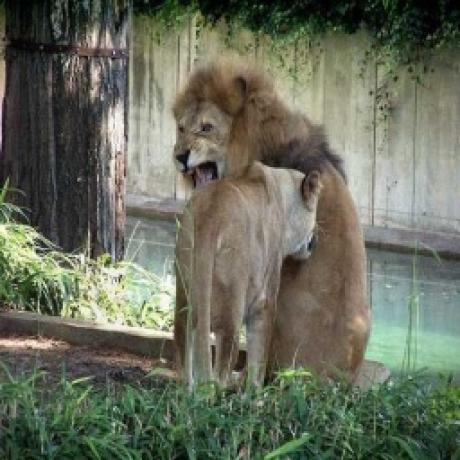Lion: (175, 57, 369, 391), (171, 167, 315, 397)
